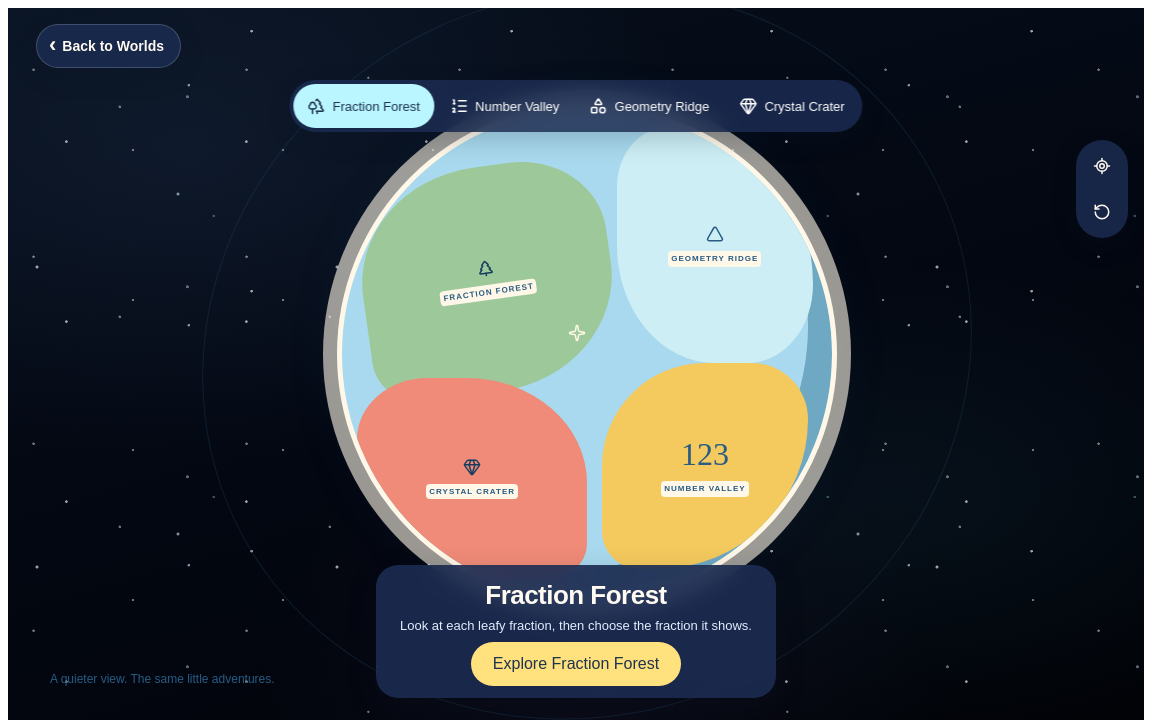
it: keeps the Numeria HUD and shows a retryable message when the mission cannot start
The width and height of the screenshot is (1152, 720).
Click the button "Explore Fraction Forest" at {"x": 576, "y": 664}, box [471, 642, 681, 686]
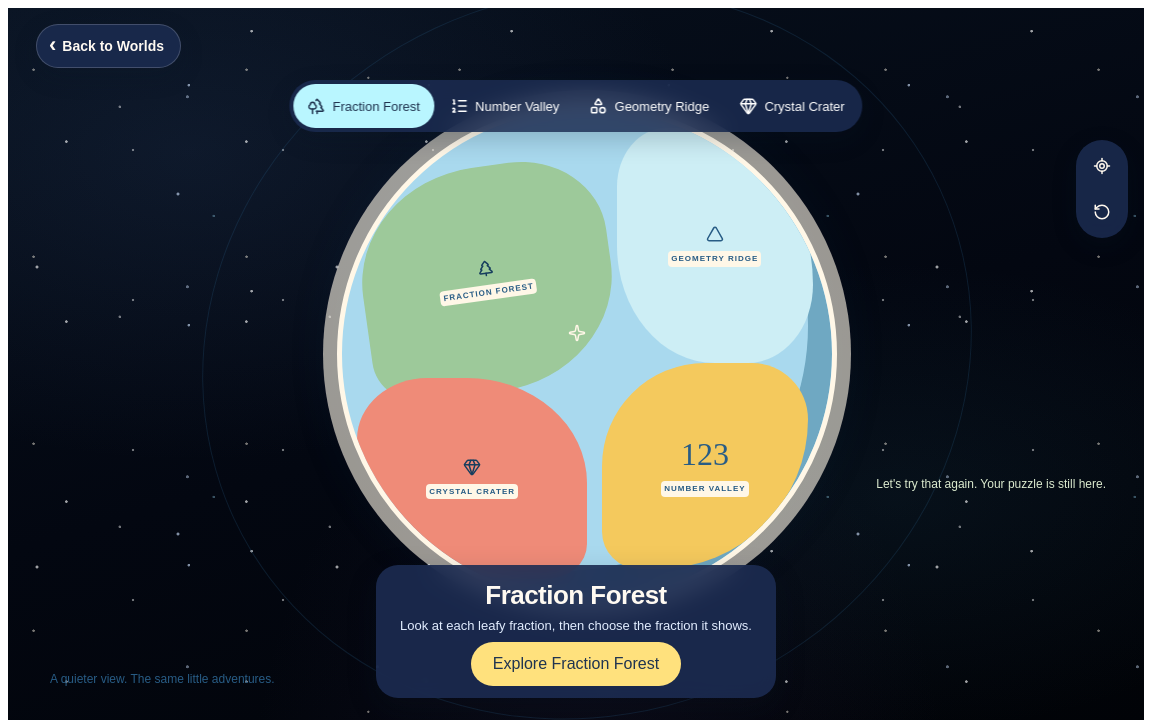
Check: the message "Let's try that again. Your puzzle is still here." is shown, box [876, 477, 1106, 491]
